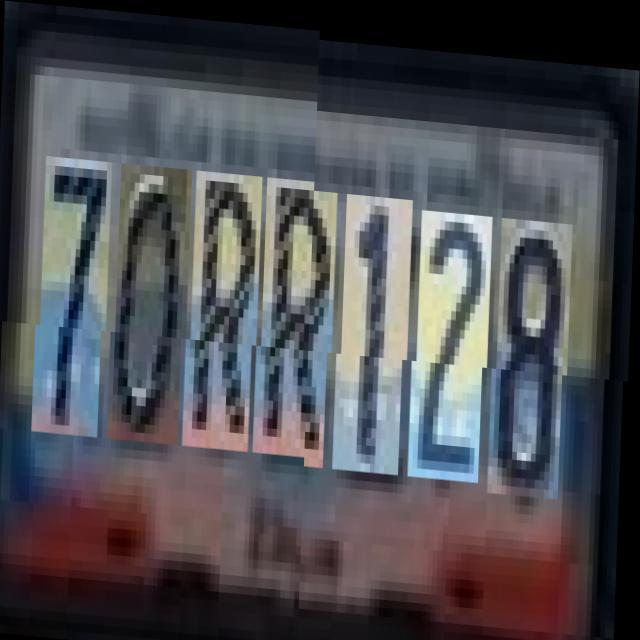1: (340, 187, 414, 468)
2: (416, 201, 494, 473)
7: (39, 164, 113, 445)
8: (495, 207, 574, 488)
O: (114, 170, 194, 451)
R: (260, 181, 339, 462), (190, 176, 264, 457)
